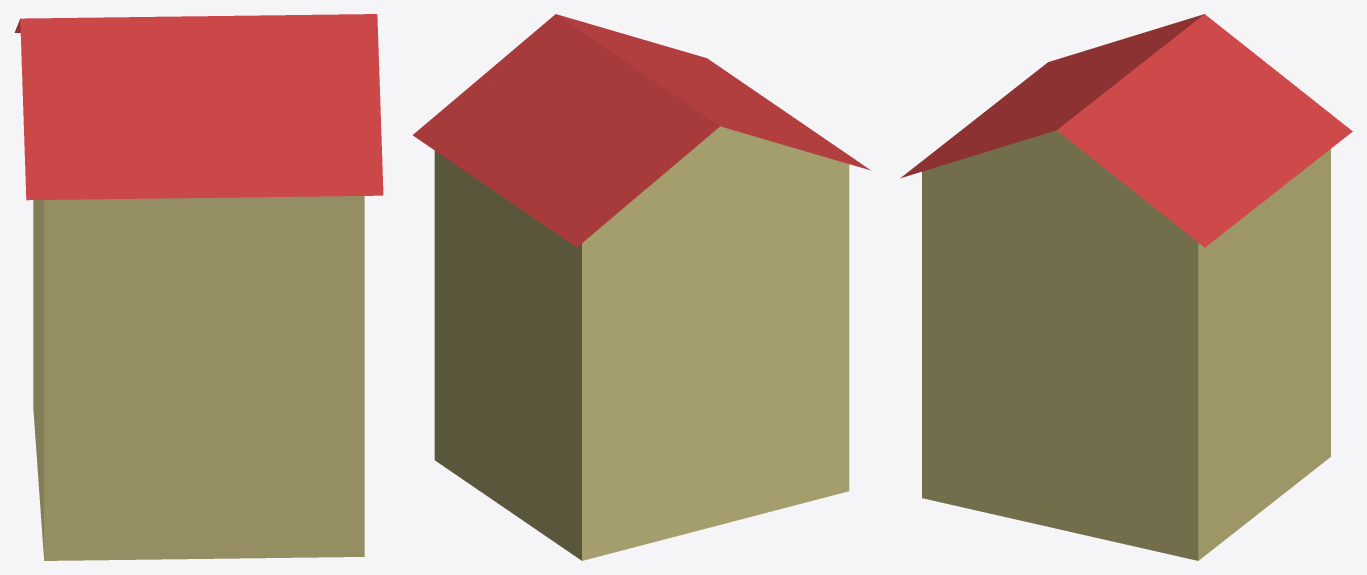
3 renders of one model, left to right at view 1: azimuth 30°, elevation 25°; view 2: azimuth 150°, elevation 25°; view 3: azimuth 270°, elevation 25°, orthographic. The views are drawn at different scales.
Bounding box in the file's own units: 6.83 × 7.05 × 6.98.
